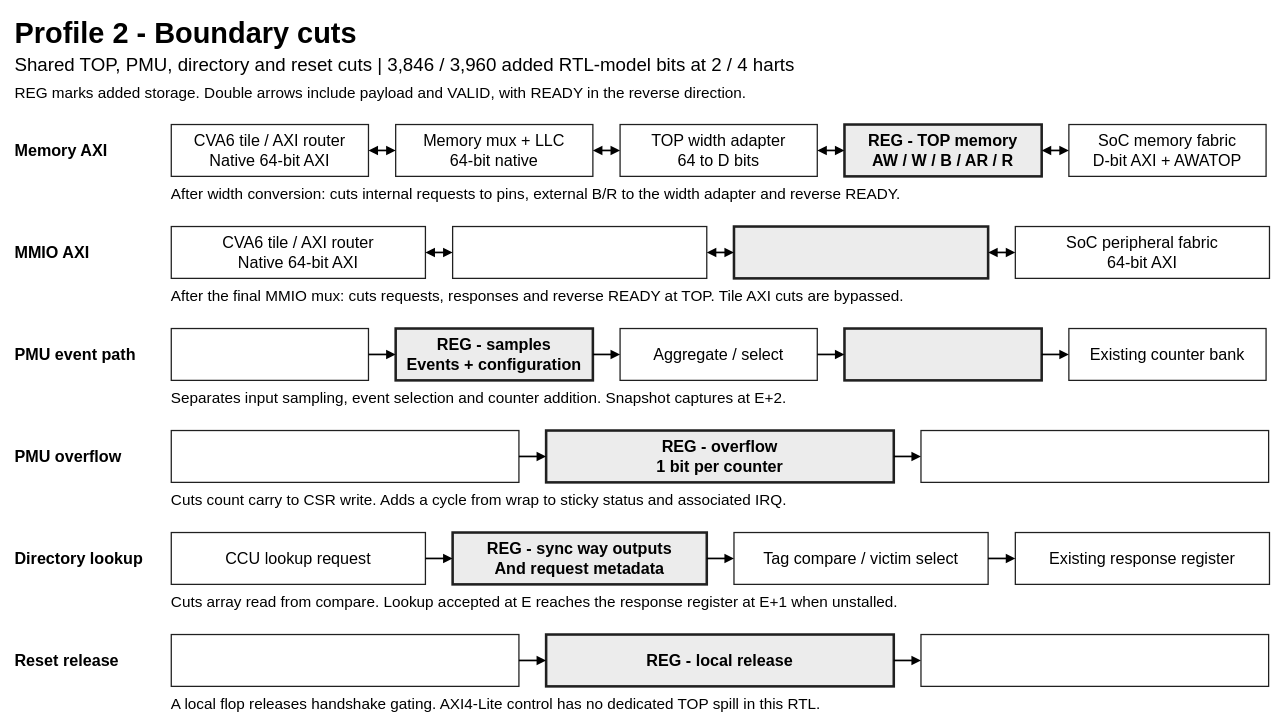
The diagram is 1284 pixels wide and 728 high, and some of its shapes have lost their labels. Here are the shapes that lost their labels. From the top down, the centre of each, then its label:
the point at 579,252: Cluster MMIO mux 64-bit egress
the point at 860,252: REG - TOP MMIO AW / W / B / AR / R
the point at 269,354: Event taps / config
the point at 943,354: REG - count / enable
the point at 344,456: Counter bank / carry
the point at 1094,456: Existing IRQ CSR update
the point at 344,660: External reset pin
the point at 1094,660: Route / adapter / locks / CMO gates
